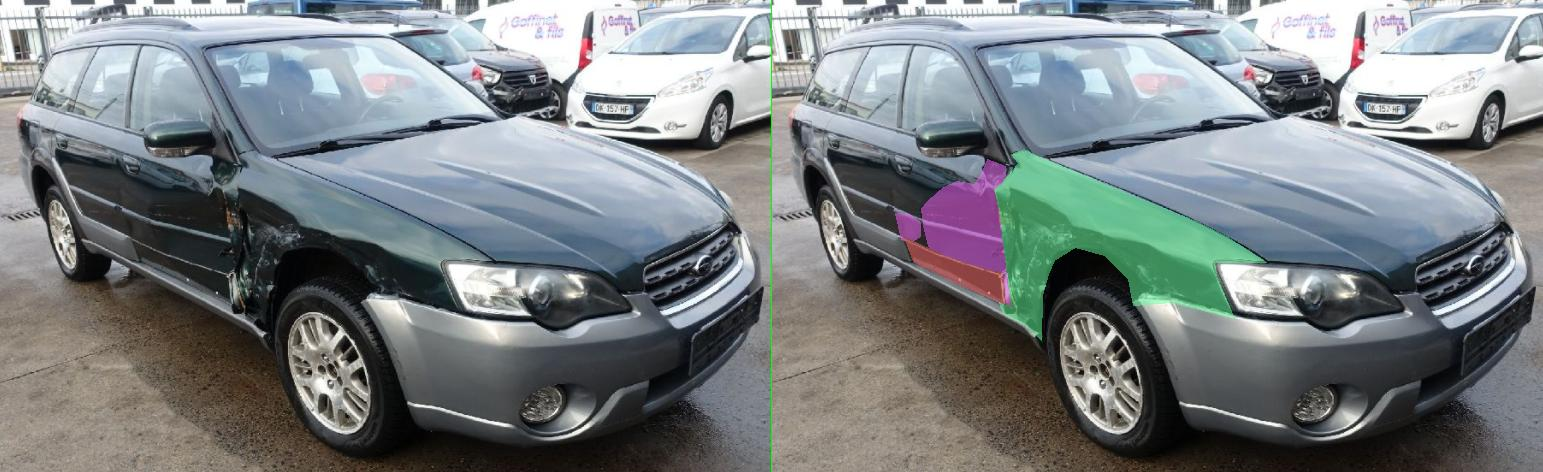Broken part: (430, 149, 989, 340)
Dent: (298, 159, 476, 305), (246, 213, 296, 242)
Missing part: (264, 237, 466, 304)
